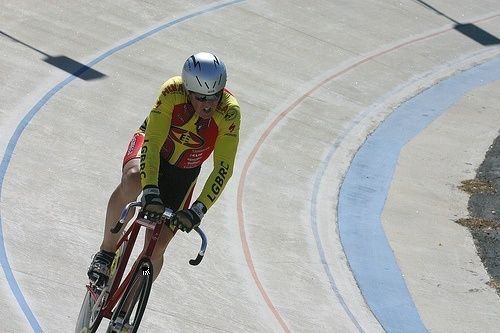car: (75, 202, 210, 333)
person: (87, 50, 244, 333)
person/foot: (88, 251, 118, 288)
person/hand: (169, 202, 207, 232), (141, 187, 165, 221)
person/head: (181, 52, 228, 121)
